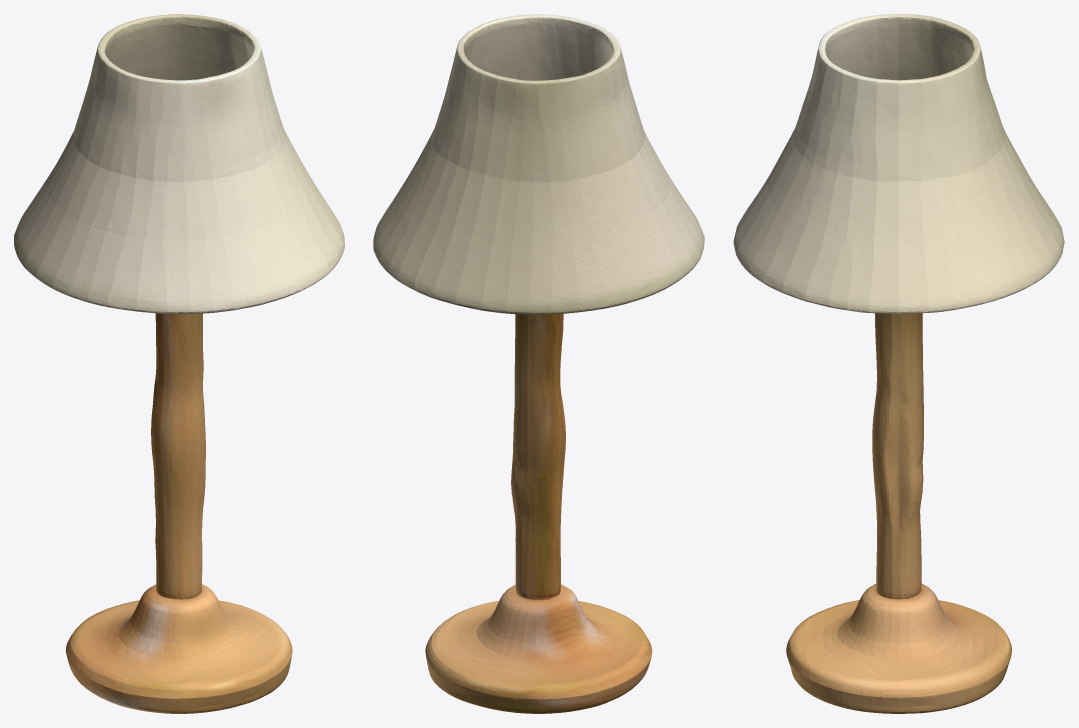
File: floor_lamp.glb
3 renders of one model, left to right at view 1: azimuth 30°, elevation 25°; view 2: azimuth 150°, elevation 25°; view 3: azimuth 270°, elevation 25°, orthographic.
Visible parts, largest first — view 1: geometry_0; view 2: geometry_0; view 3: geometry_0.
Boxes of the visible parts, x1,y1,x2,y2 form: geometry_0: [14, 14, 344, 713]; geometry_0: [373, 14, 704, 713]; geometry_0: [733, 14, 1064, 713].
Bounding box in the file's own units: 0.4816 × 1 × 0.4818.
1 material, 1 textured.
